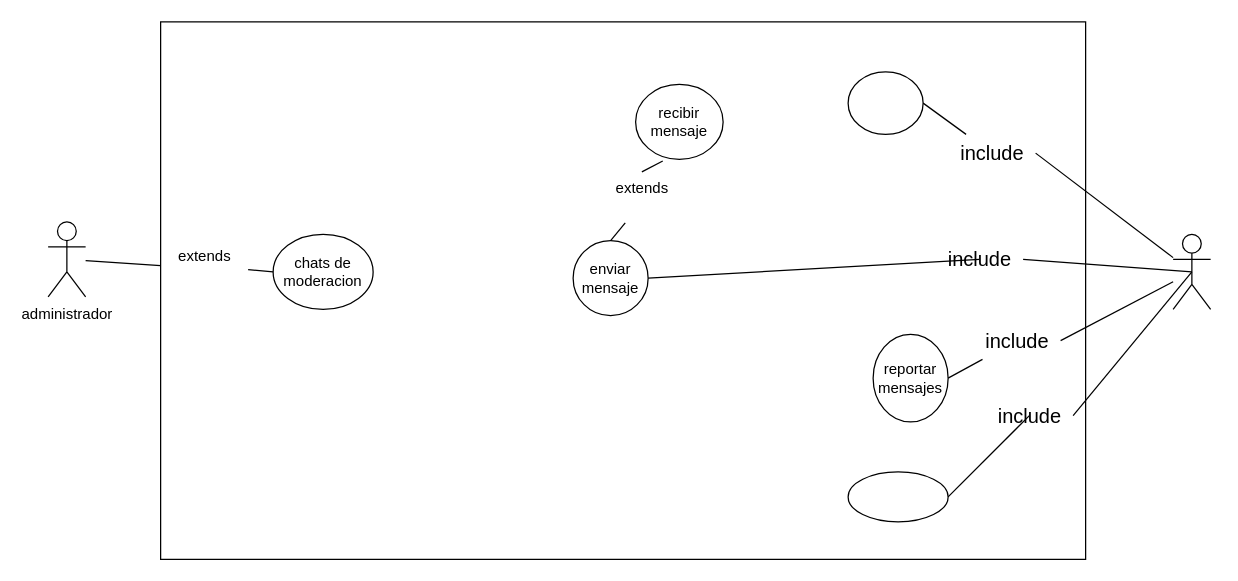
Some shapes in this 1238 by 581 pixel diagram are drawn without their labels. Each missing label, with the box of its shape:
adjuntar archivos: (847, 471, 948, 522)
inicio de sesion: (847, 71, 923, 134)
usuario: (1172, 233, 1211, 309)
